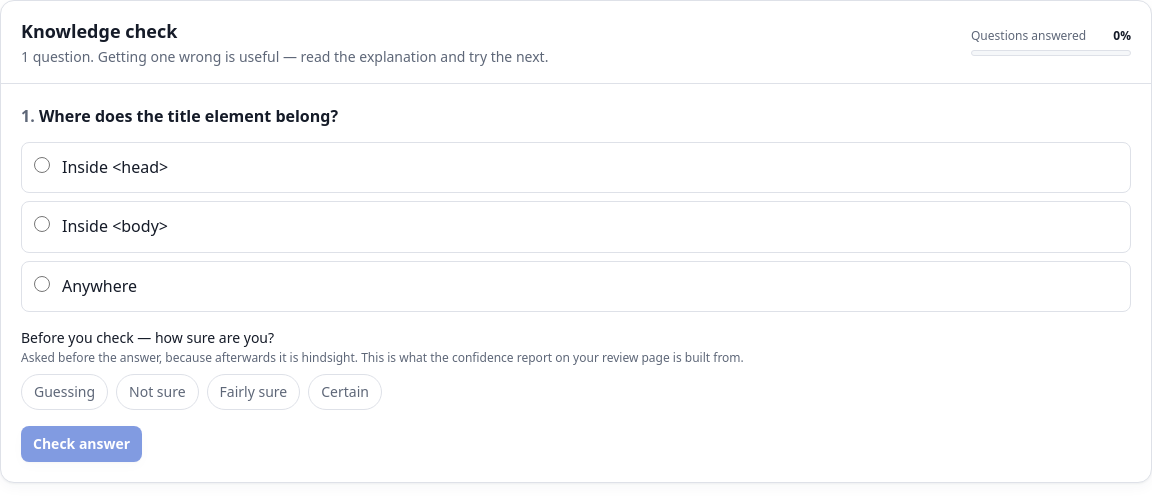
it: quiz › requires both an answer and a confidence rating before checking
Expected: the button "Check answer" is disabled, [21,426,142,462]
Click the radio button labelled "Inside <head>". click: (42, 165)
box: [34,157,50,173]
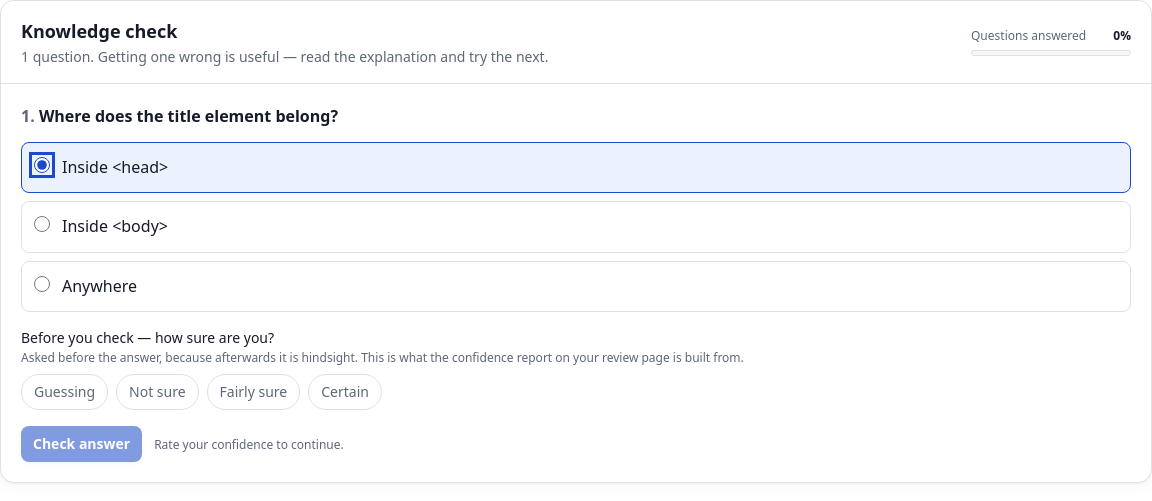
Expected: the button "Check answer" is disabled, [21,426,142,462]
Click the radio button labelled "Fairly sure". click: (253, 392)
box: [207,374,300,410]
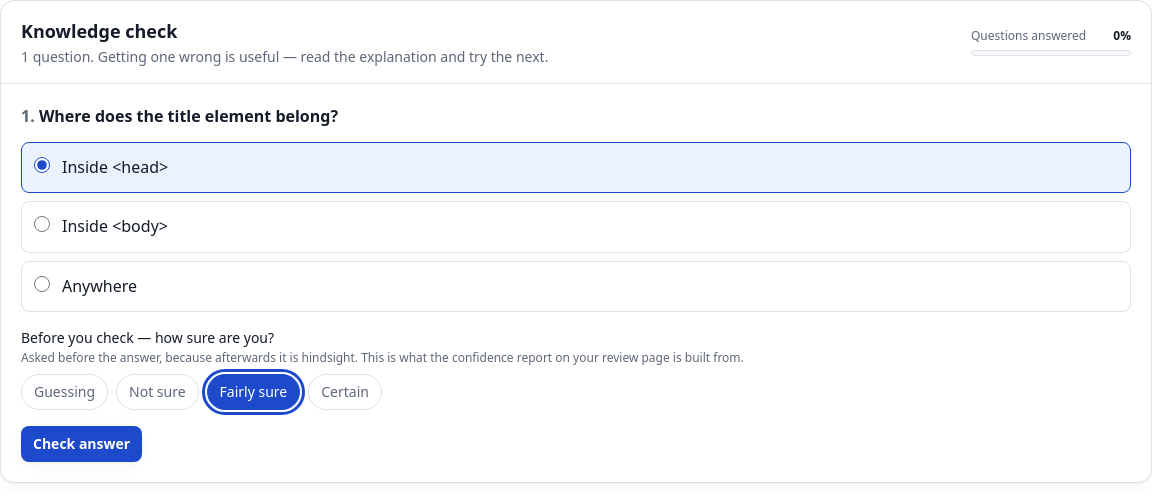
Expected: the button "Check answer" is enabled, [21,426,142,462]
